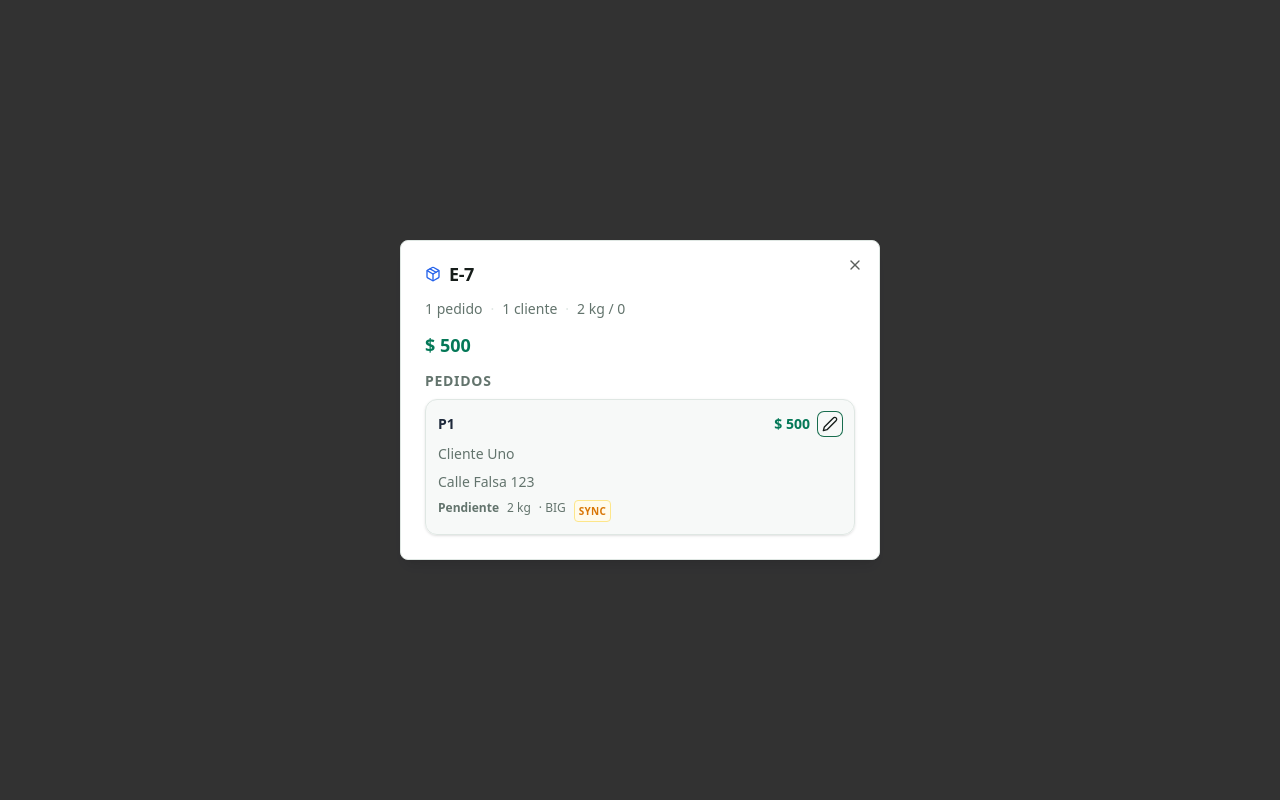
Test case: PreparacionDetalleModal — vista › el cambio individual (serverCambio) tiene prioridad sobre el cross-code al precargar el form de edición
Step 1. Click the button titled "Modificar reparto" → (830, 424), box [818,412,842,436]
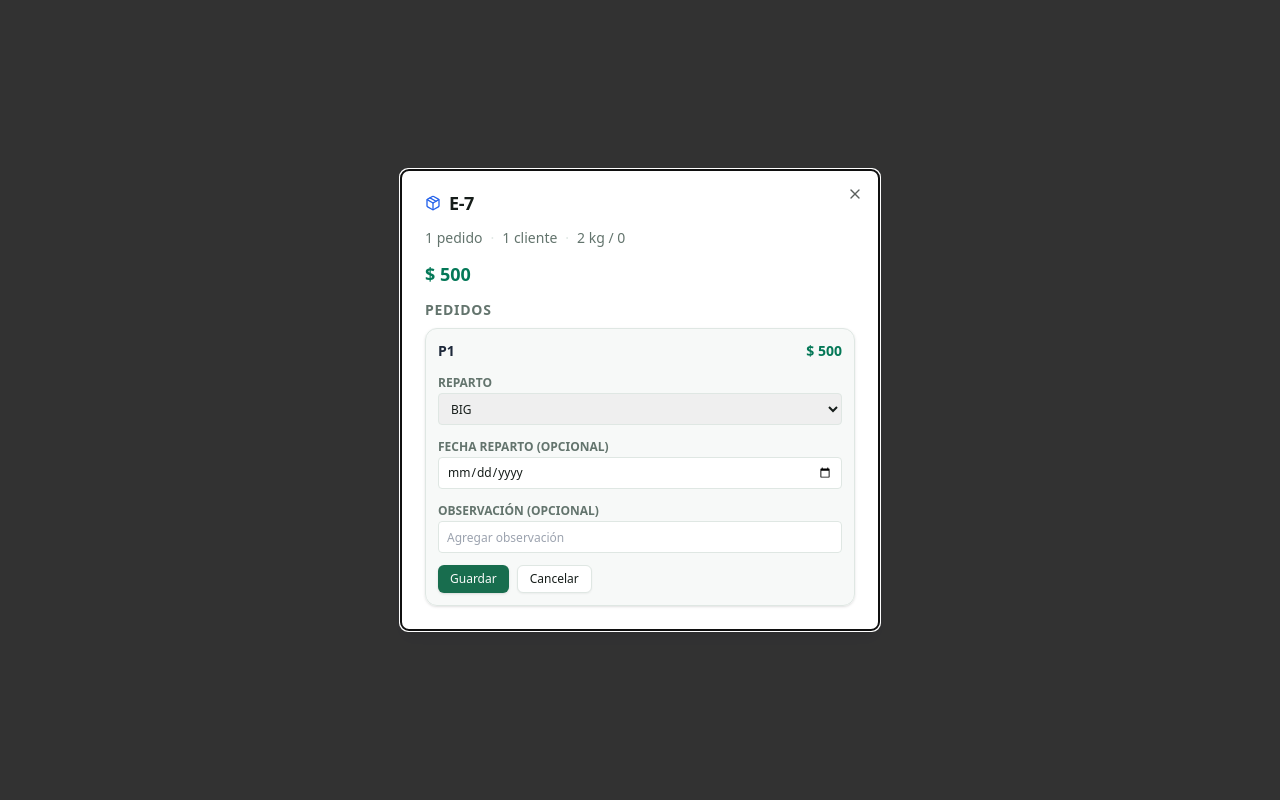
Now the dropdown shows "BIG", box [438,393,842,425]
